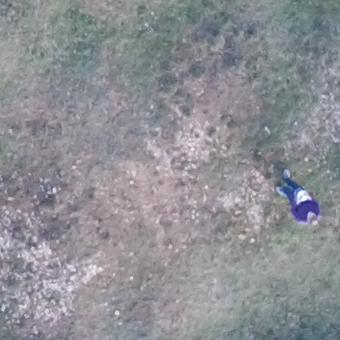human: (271, 169, 324, 228)
